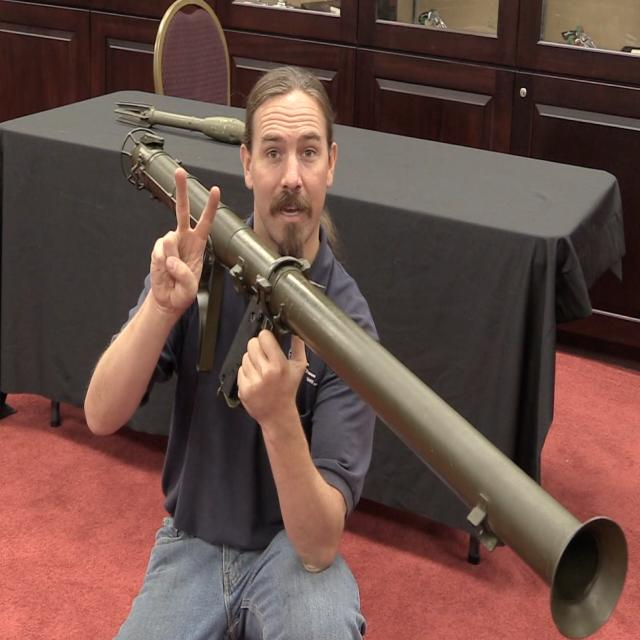bazooka: (81, 120, 640, 640)
